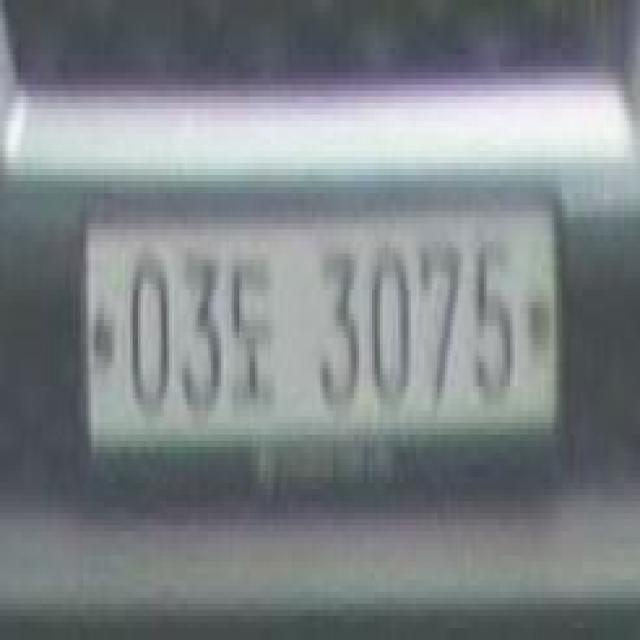illegal_plate: (86, 178, 565, 504)
